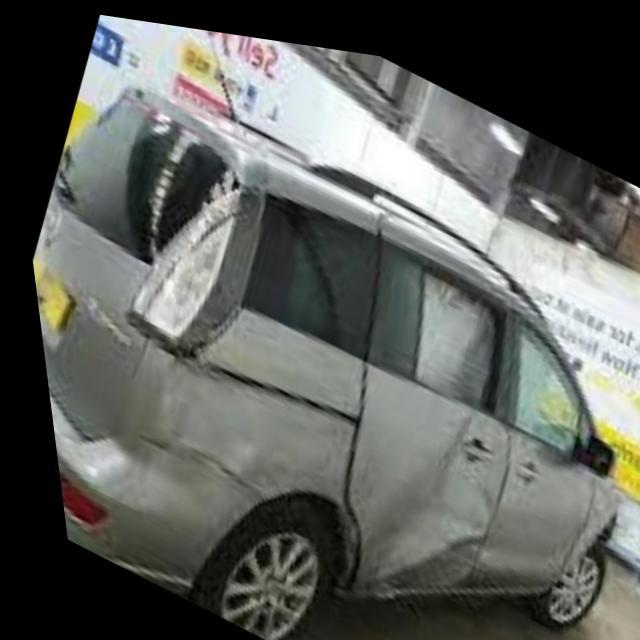dent: (152, 369, 485, 576)
